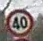limite 40: (3, 8, 35, 36)
